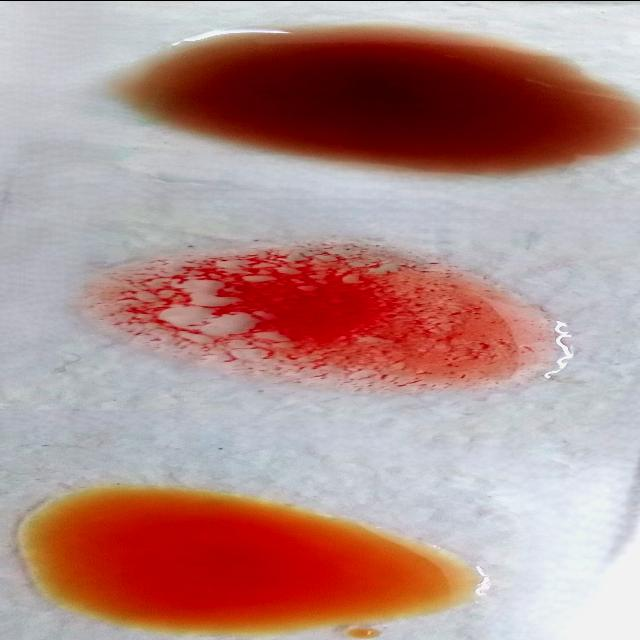D: (123, 242, 564, 388)
